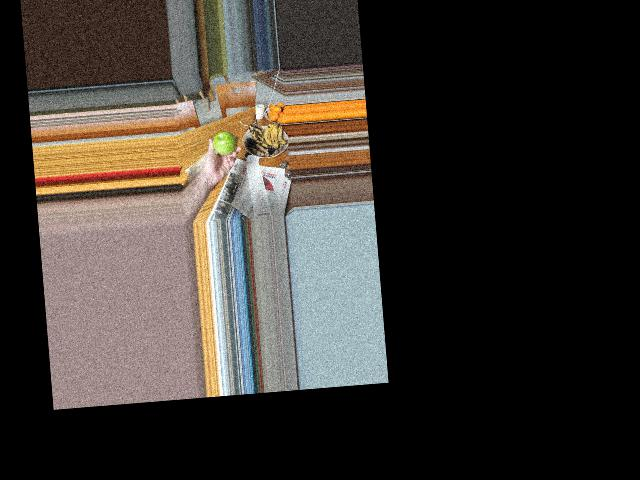apple: (210, 127, 238, 159)
